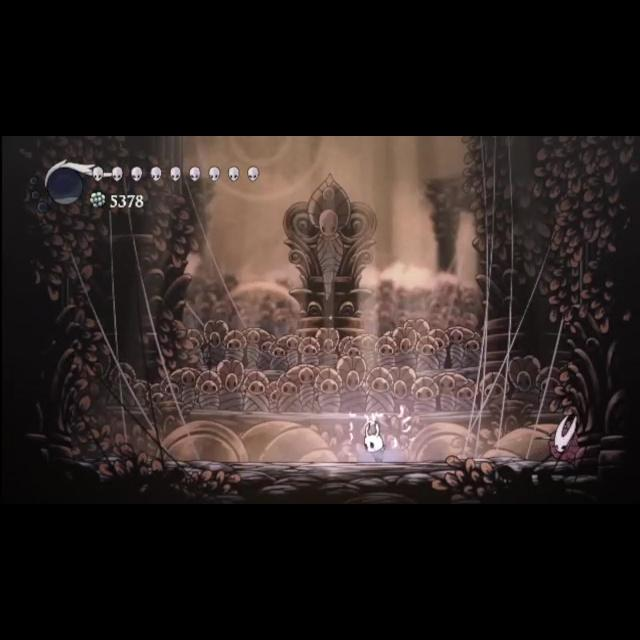EnemyLeadIn: (528, 414, 590, 468)
Player: (358, 420, 394, 462)
